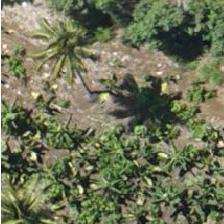Kelapa_Sawit: (0, 169, 68, 224)
